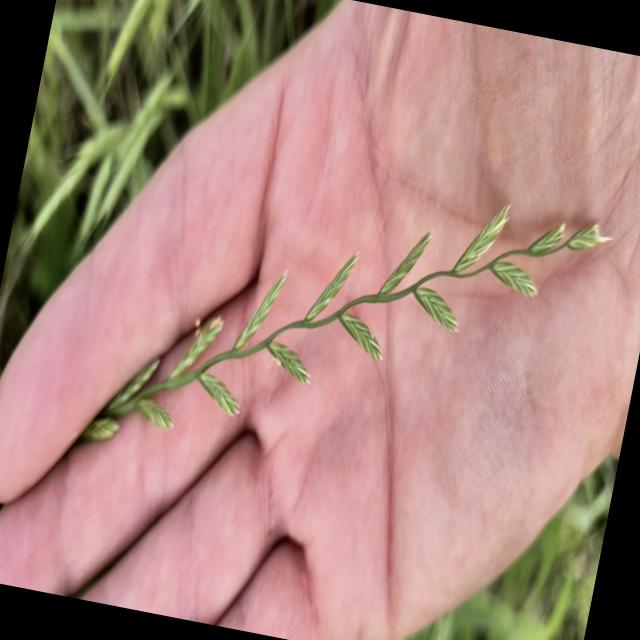Lolium: (0, 101, 622, 640)
